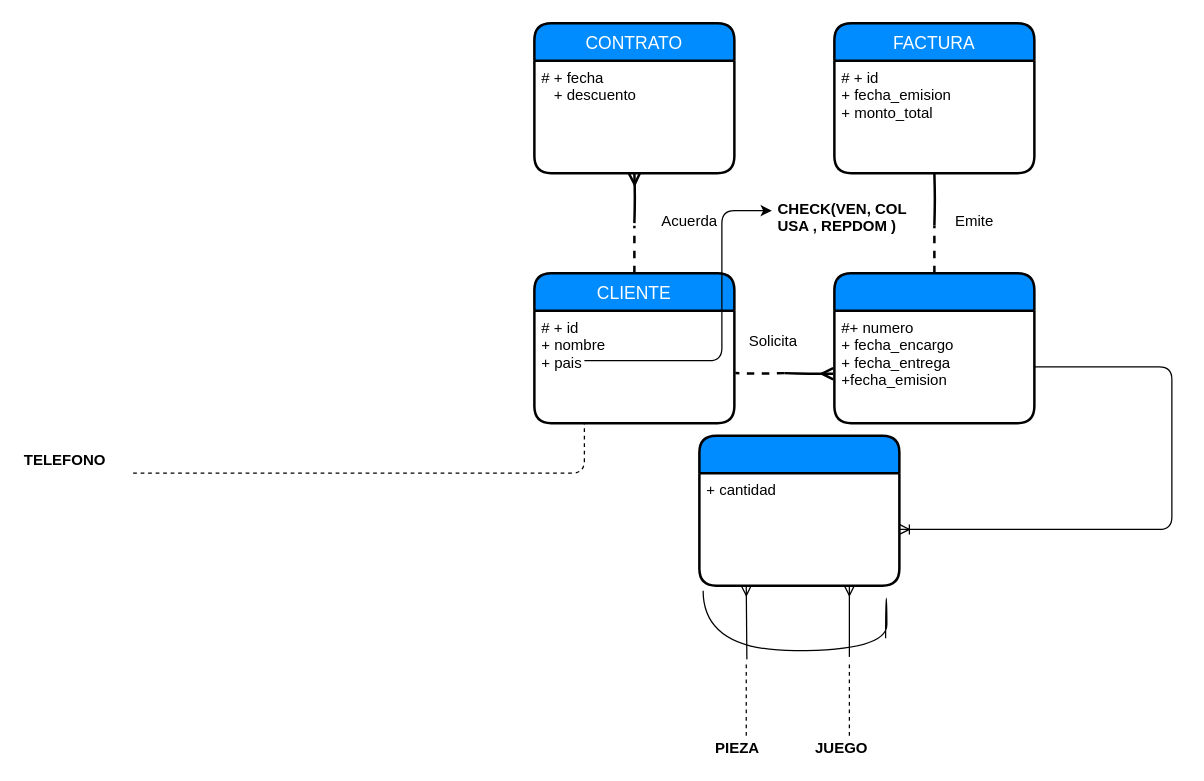
Some shapes in this 1204 by 781 pixel diagram are drawn without their labels. Here are the shapes that lost their labels. From the top down, the box of each, then its label:
(832, 271, 1035, 424): PEDIDO
(698, 434, 900, 586): DETALLE
